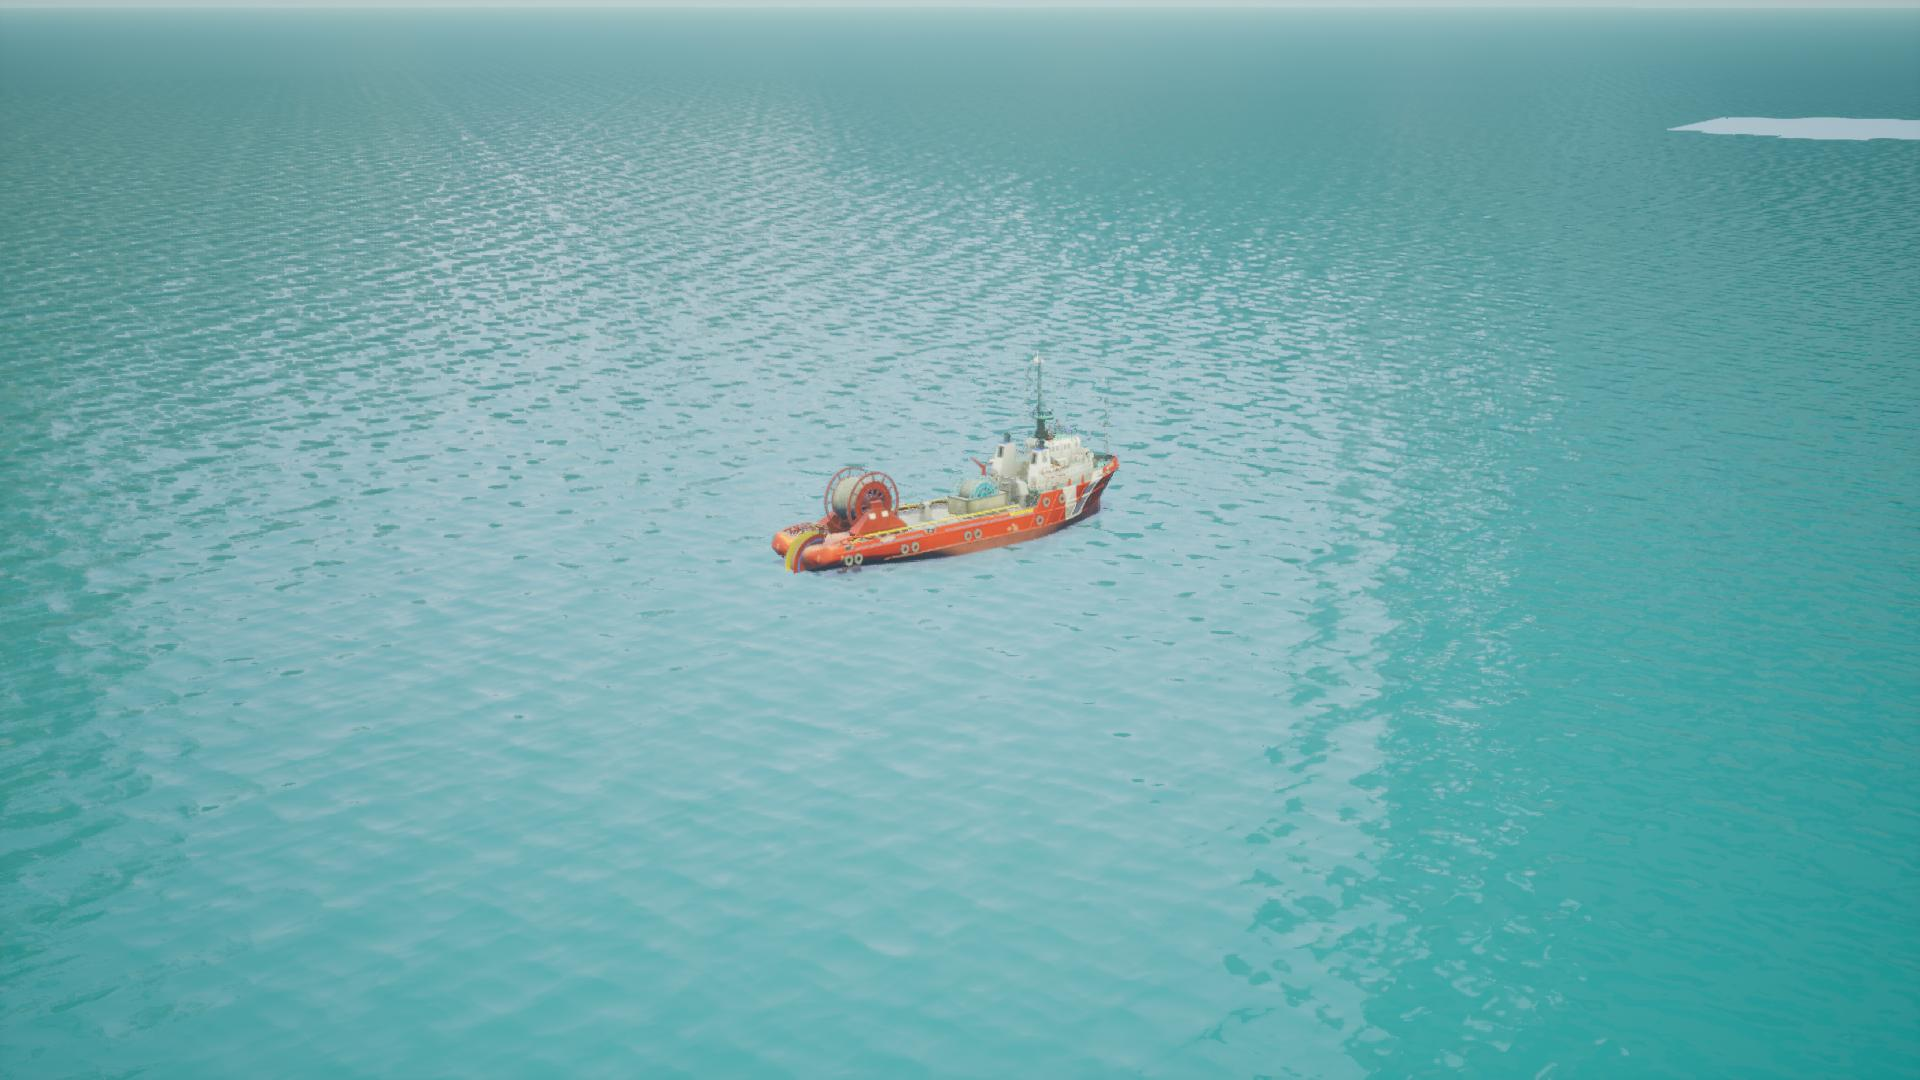Tug Boat: (774, 426, 1120, 575)
